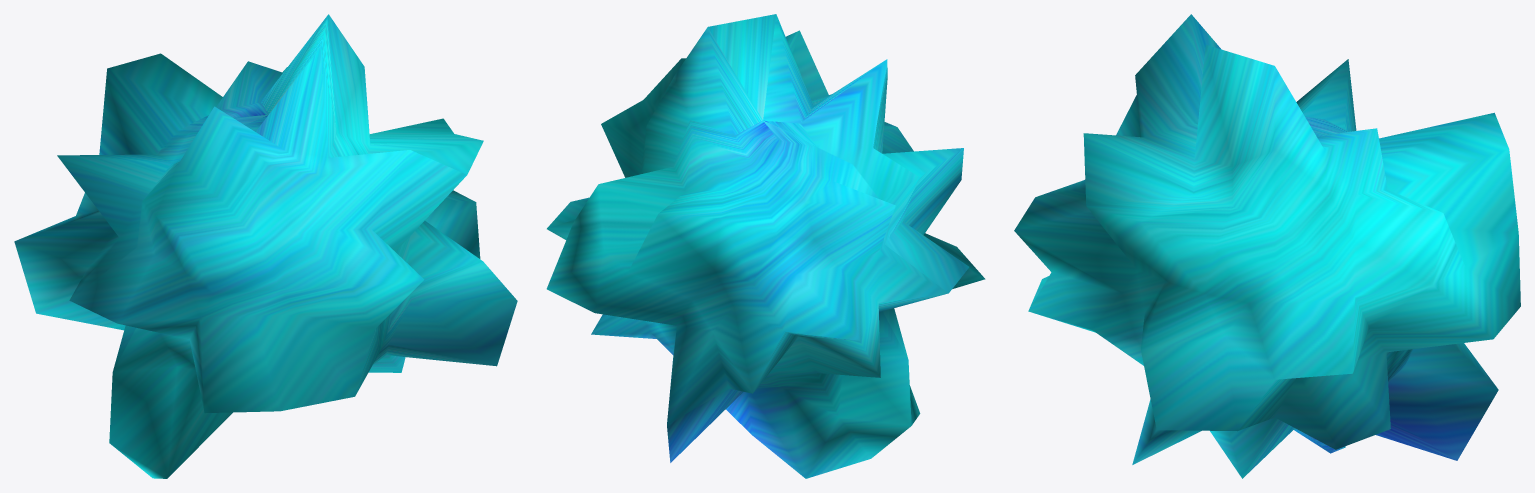
The model's file is e_iceBossHead.FBX.
3 views of the same model, side by side, from view 1: azimuth 30°, elevation 25°; view 2: azimuth 150°, elevation 25°; view 3: azimuth 270°, elevation 25° (orthographic). The views are drawn at different scales.
Visible parts, largest first — view 1: GeoSphere001; view 2: GeoSphere001; view 3: GeoSphere001.
Boxes of the visible parts, box(x1,y1,x2,y2) form: GeoSphere001: box(14, 14, 517, 478); GeoSphere001: box(546, 14, 985, 478); GeoSphere001: box(1014, 14, 1520, 478).
Size of the model in its own units: 17.38 by 17.7 by 17.47.
Materials: 1 (1 with a texture image).
